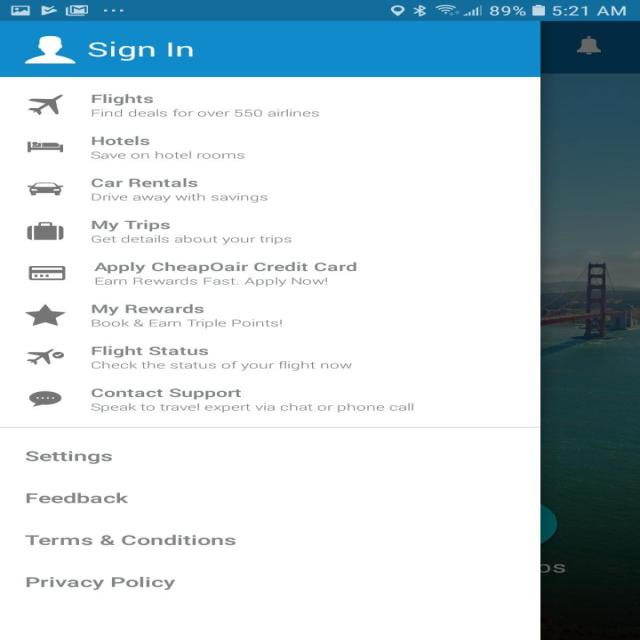Drawer: (0, 21, 540, 639)
Icon: (24, 36, 76, 64), (24, 303, 67, 326), (26, 222, 64, 240), (28, 390, 62, 407), (28, 266, 66, 280)
Image: (27, 94, 64, 116), (26, 349, 65, 365), (26, 182, 64, 195), (26, 141, 64, 153)
Text: (90, 402, 413, 412), (94, 262, 356, 274), (91, 360, 352, 370), (24, 534, 236, 545), (95, 276, 327, 286), (88, 41, 194, 61), (26, 576, 176, 590), (90, 234, 292, 244), (91, 318, 282, 328), (90, 109, 320, 117), (90, 192, 268, 202), (91, 388, 241, 399), (90, 345, 208, 358), (92, 303, 204, 316), (90, 150, 244, 159), (25, 450, 112, 464), (26, 492, 128, 503), (90, 178, 198, 188), (90, 220, 170, 232), (91, 93, 153, 106), (92, 136, 150, 146)
